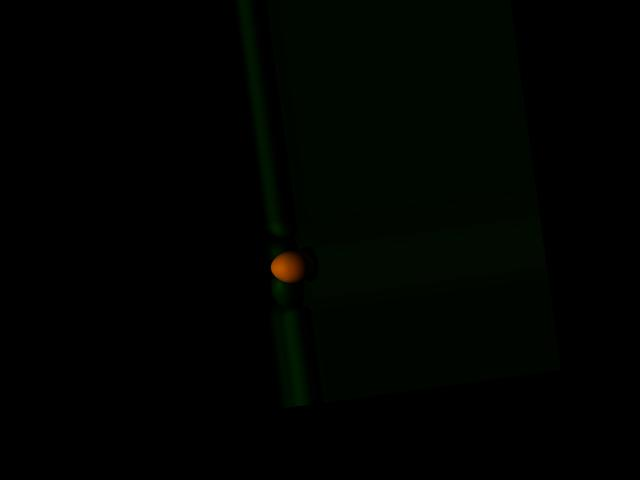egg: (269, 247, 316, 286)
